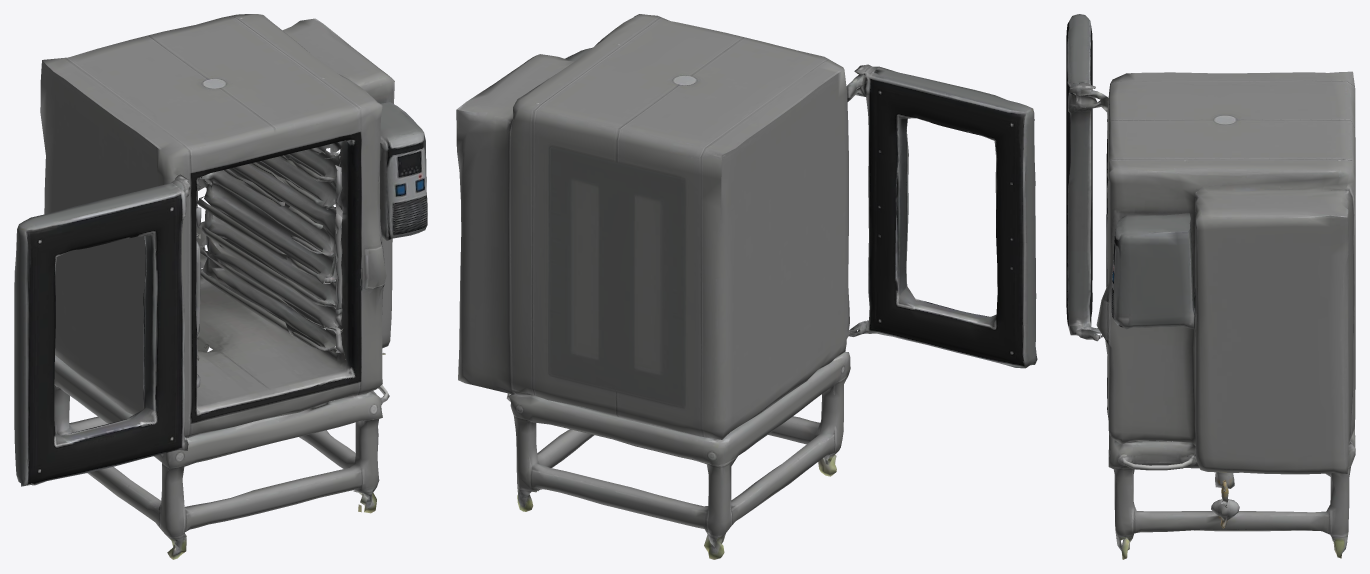
The model's file is oven.glb.
3 views of the same model, side by side, from view 1: azimuth 30°, elevation 25°; view 2: azimuth 150°, elevation 25°; view 3: azimuth 270°, elevation 25° (orthographic). The views are drawn at different scales.
Visible parts, largest first — view 1: tripo_node_7db851f2; view 2: tripo_node_7db851f2; view 3: tripo_node_7db851f2.
Part boxes in pixels (x1=…): tripo_node_7db851f2: x1=14, y1=14, x2=427, y2=559; tripo_node_7db851f2: x1=456, y1=14, x2=1037, y2=559; tripo_node_7db851f2: x1=1066, y1=14, x2=1355, y2=559.
Bounding box in the file's own units: 1.48 × 1.33 × 0.8859.
Materials: 1 (1 with a texture image).
